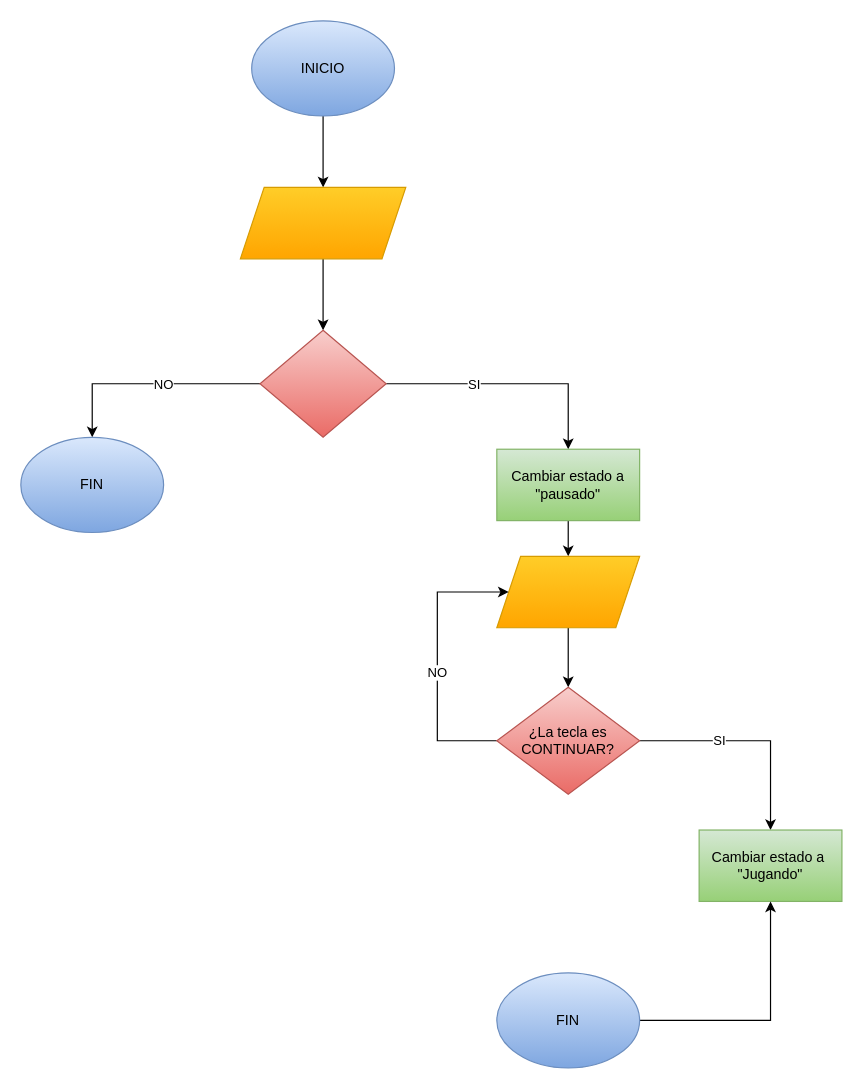
Some shapes in this 863 by 1089 pixel diagram are drawn without their labels. Here are the shapes that lost their labels. From the top down, the box of each, then its label:
(239, 186, 406, 259): Leer tecla presionada
(259, 329, 386, 437): ¿La tecla es PAUSA?
(496, 555, 640, 628): Mostrar "Juego pausado"
